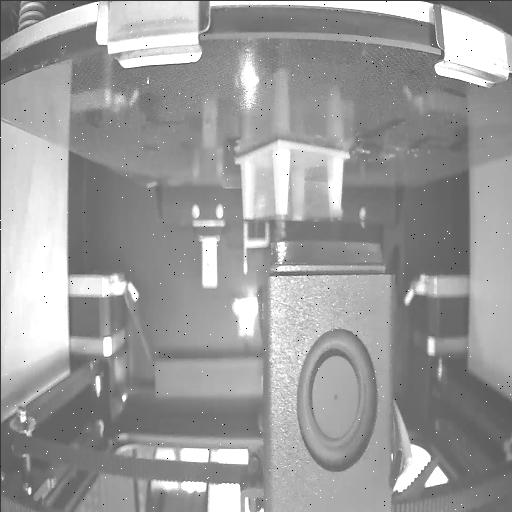stringing: (286, 144, 334, 228), (246, 148, 274, 222)
